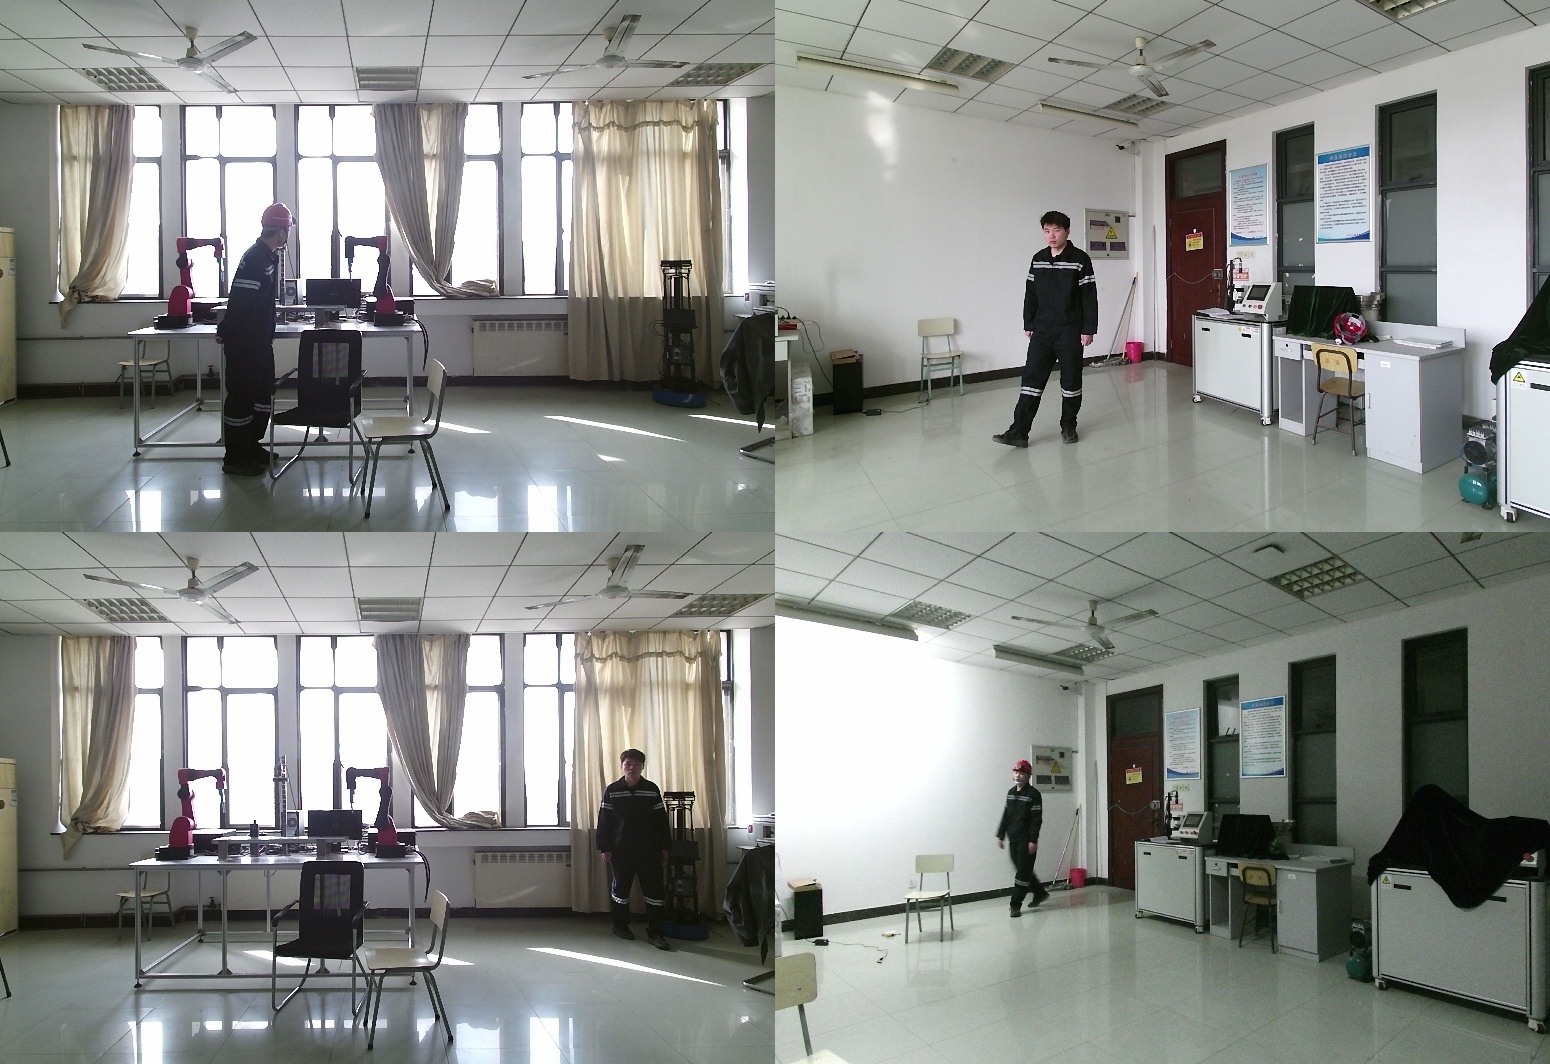person: (994, 213, 1108, 445), (220, 204, 293, 478), (596, 750, 683, 946), (1004, 763, 1050, 921)
